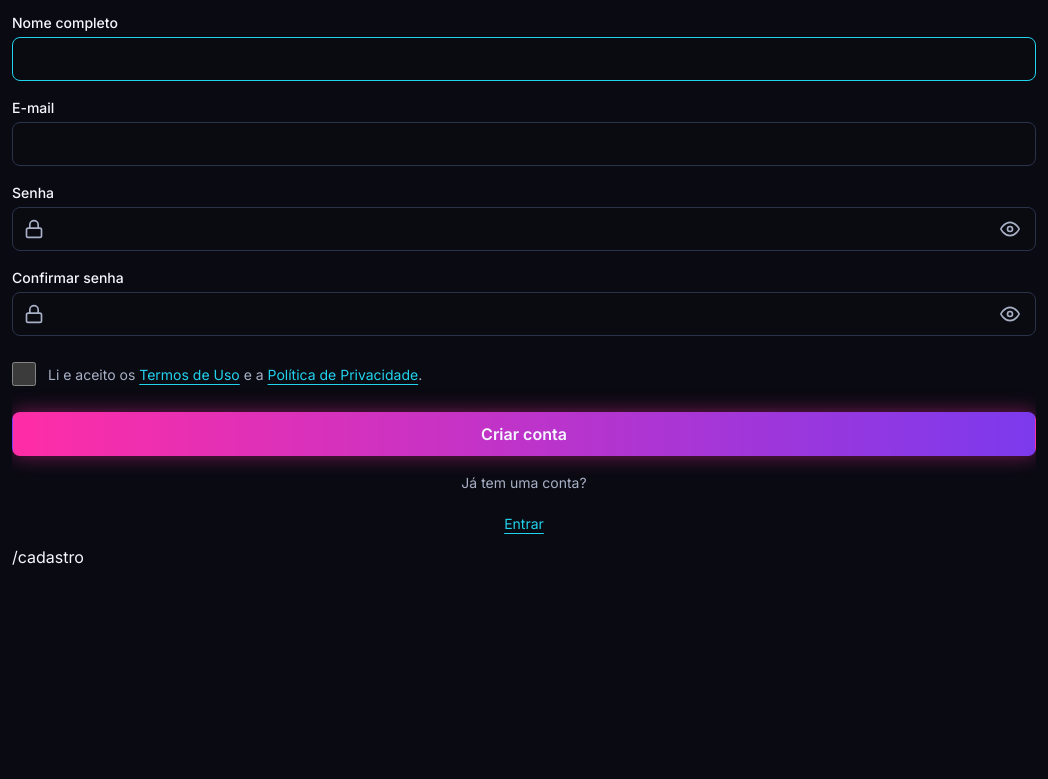
it: RegisterForm (AUTH-002) › limite de cadastros e falha de rede mostram alerta acessivel
The image size is (1048, 779).
Type "Ana Maria" into the field labelled "Nome completo" at (524, 59), box [12, 37, 1036, 81]
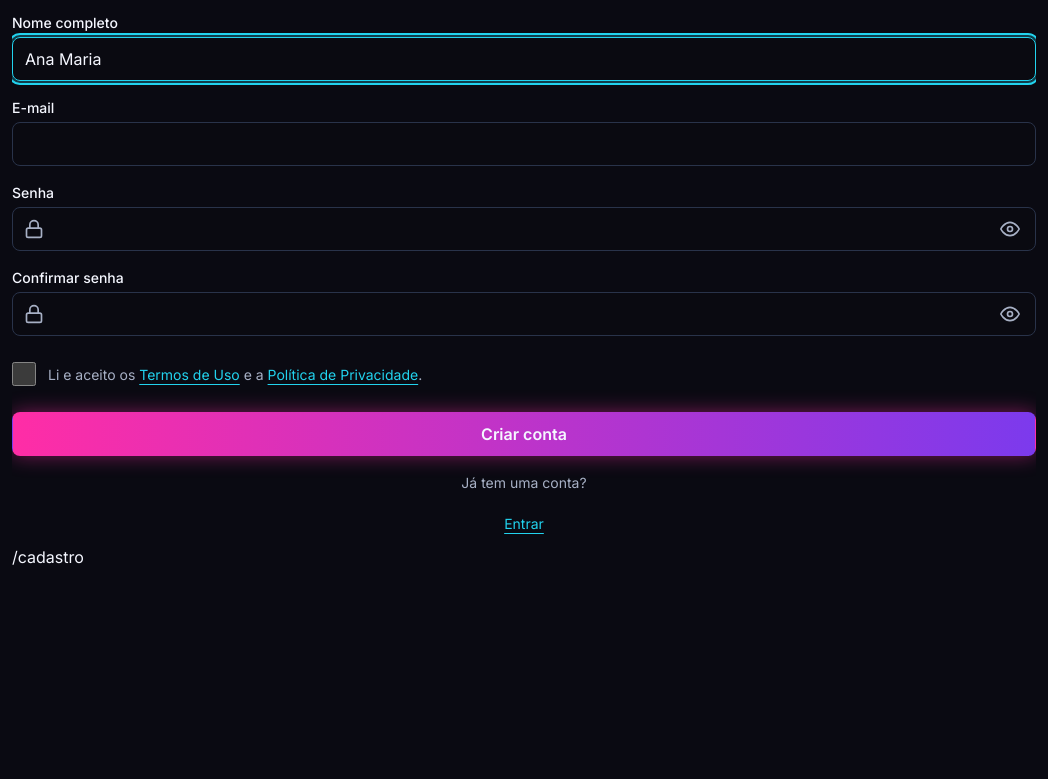
Type "ana@exemplo.com" into the field labelled "E-mail" at (524, 144), box [12, 122, 1036, 166]
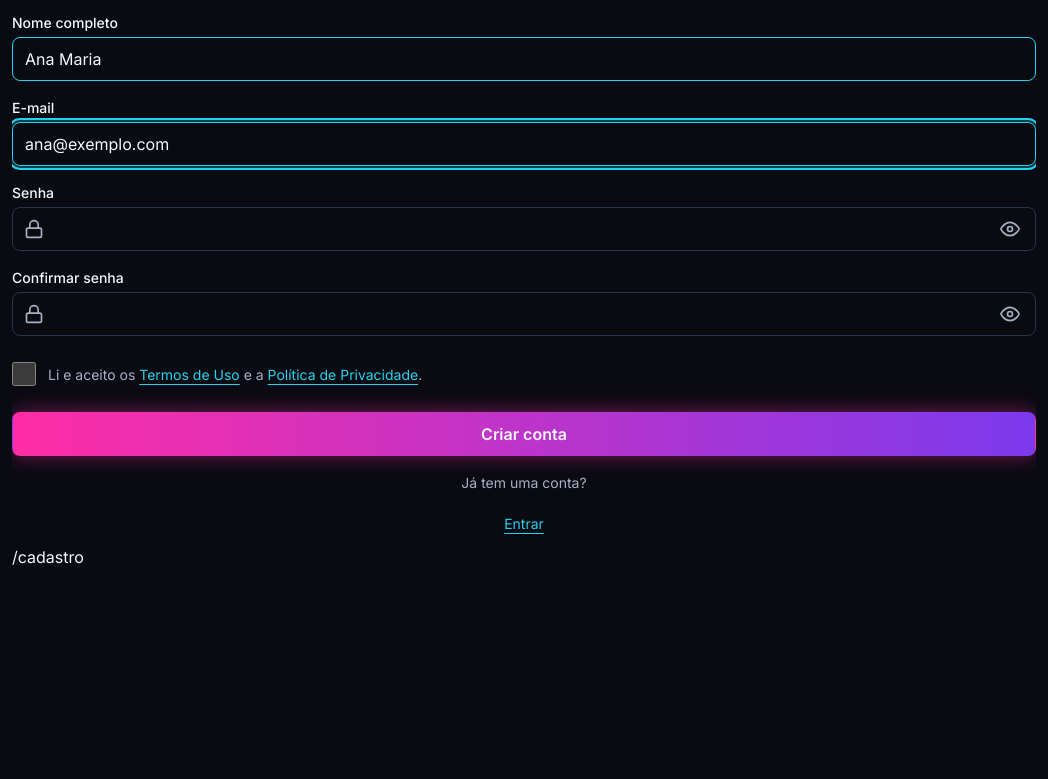
Type "Frase-Longa-Segura-2026" into the password field labelled "Senha" at (524, 229), box [12, 207, 1036, 251]
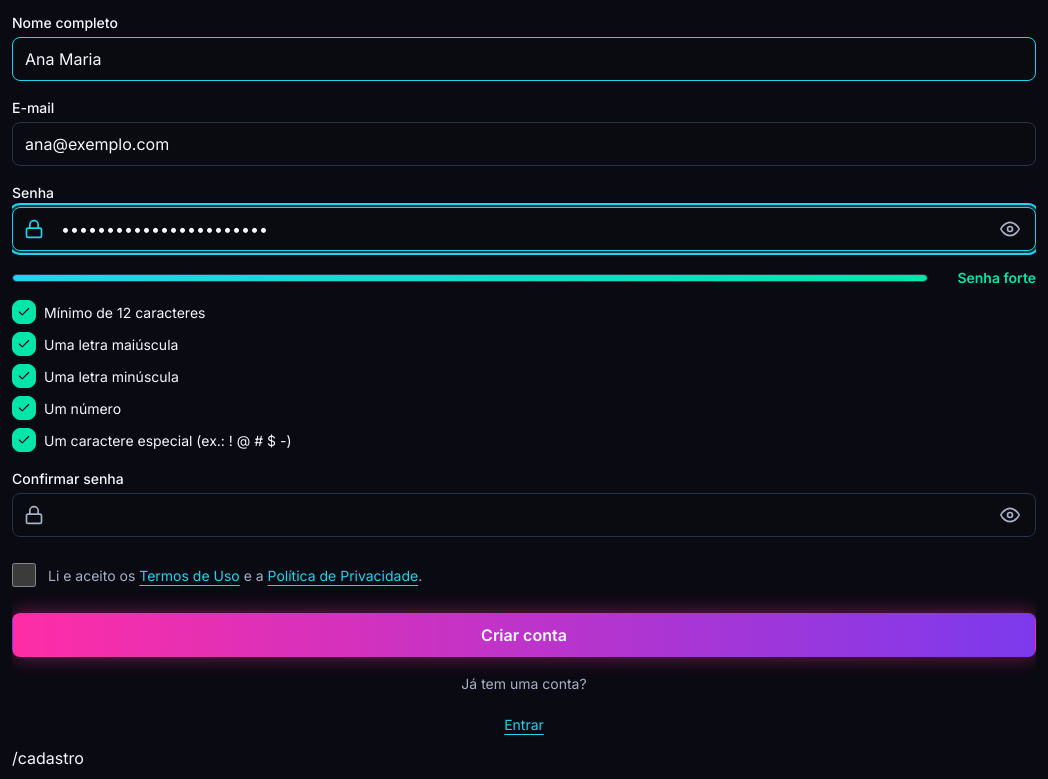
Type "Frase-Longa-Segura-2026" into the password field labelled "Confirmar senha" at (524, 515), box [12, 493, 1036, 537]
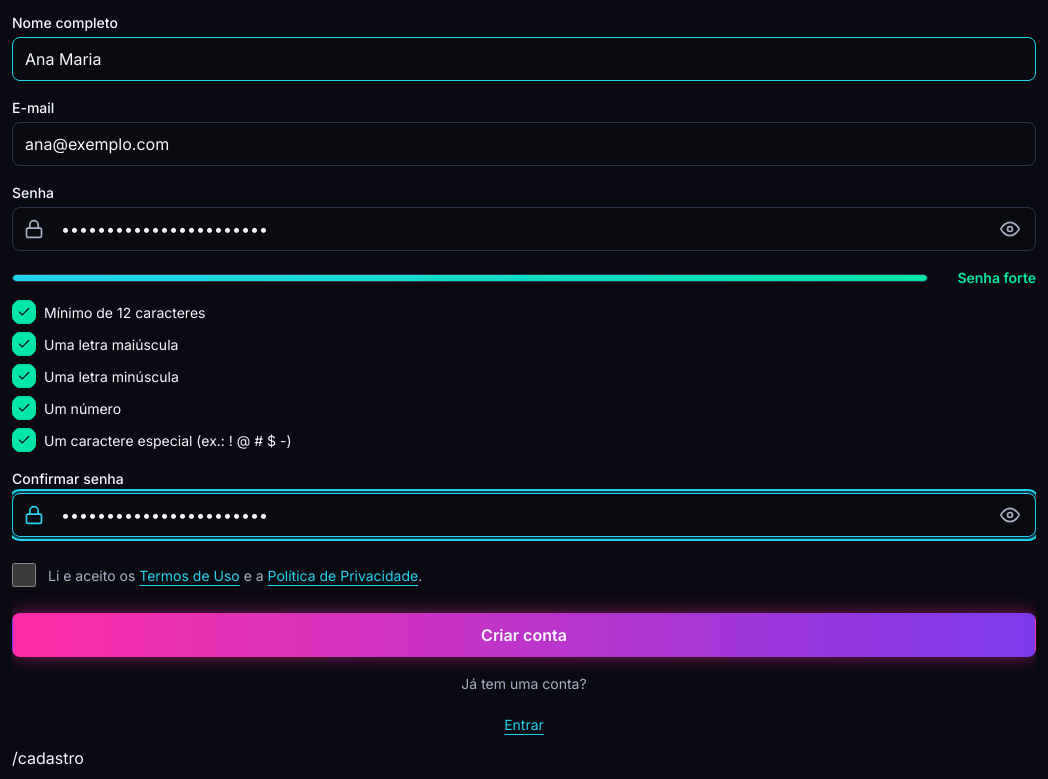
Click the checkbox at (24, 575), box [12, 563, 36, 587]
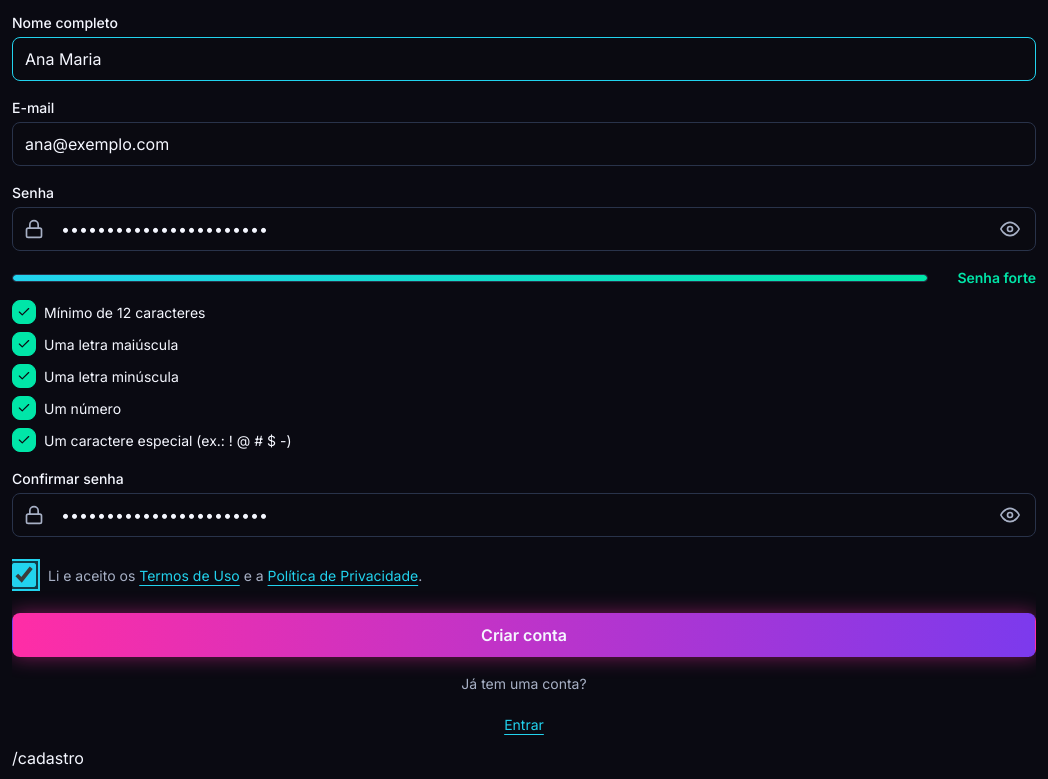
Click the button "Criar conta" at (524, 635), box [12, 613, 1036, 657]
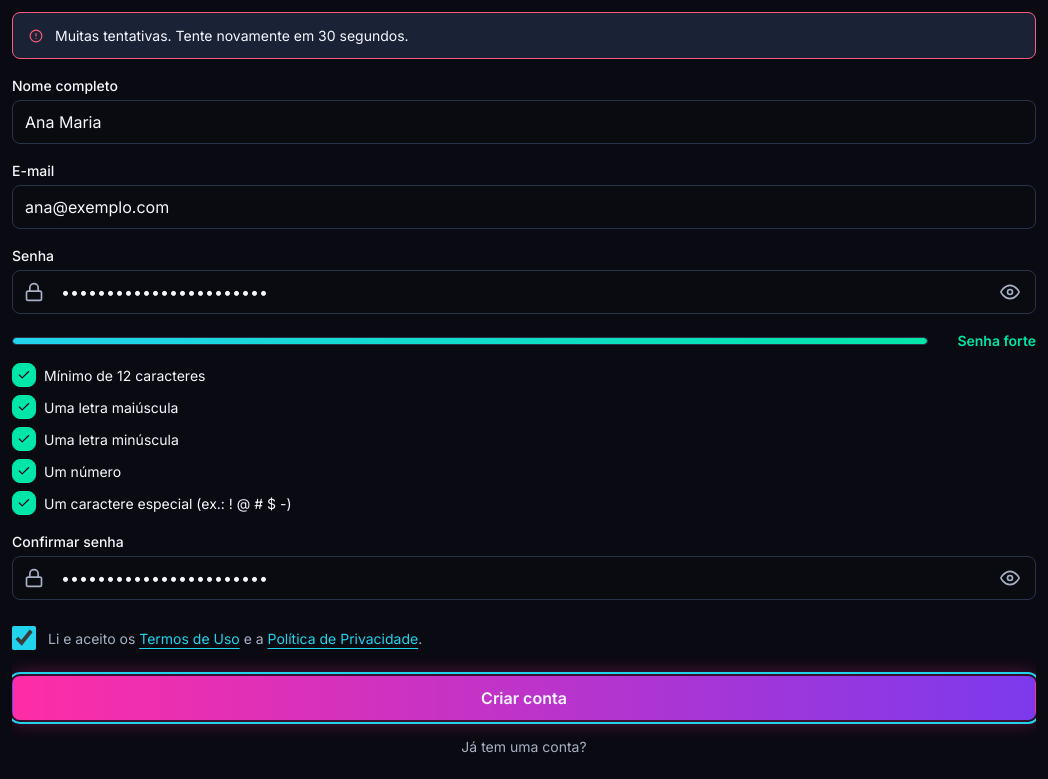
Result: the message shows "Tente novamente em 30 segundos." at [55, 27, 409, 44]
